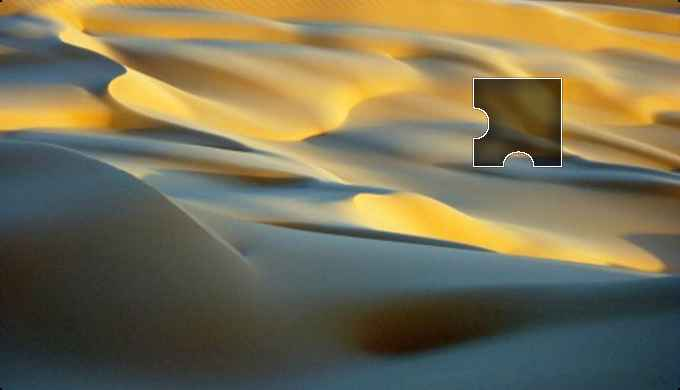gap: (472, 77, 562, 166)
